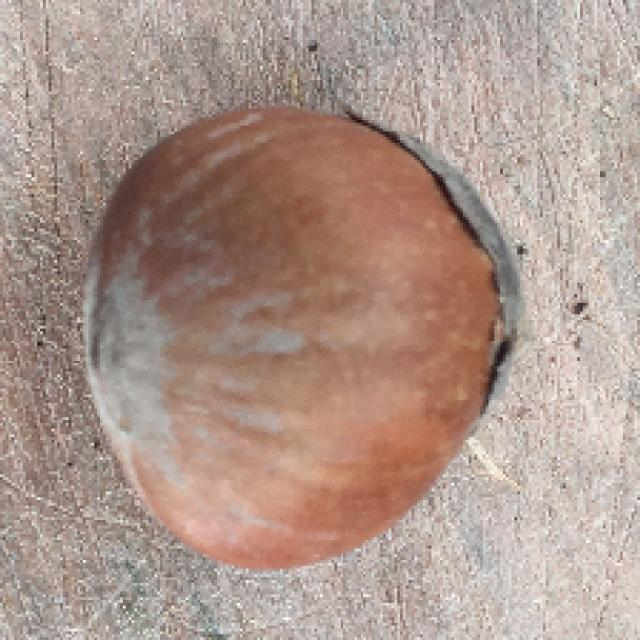damagedHazelnut: (84, 91, 519, 571)
